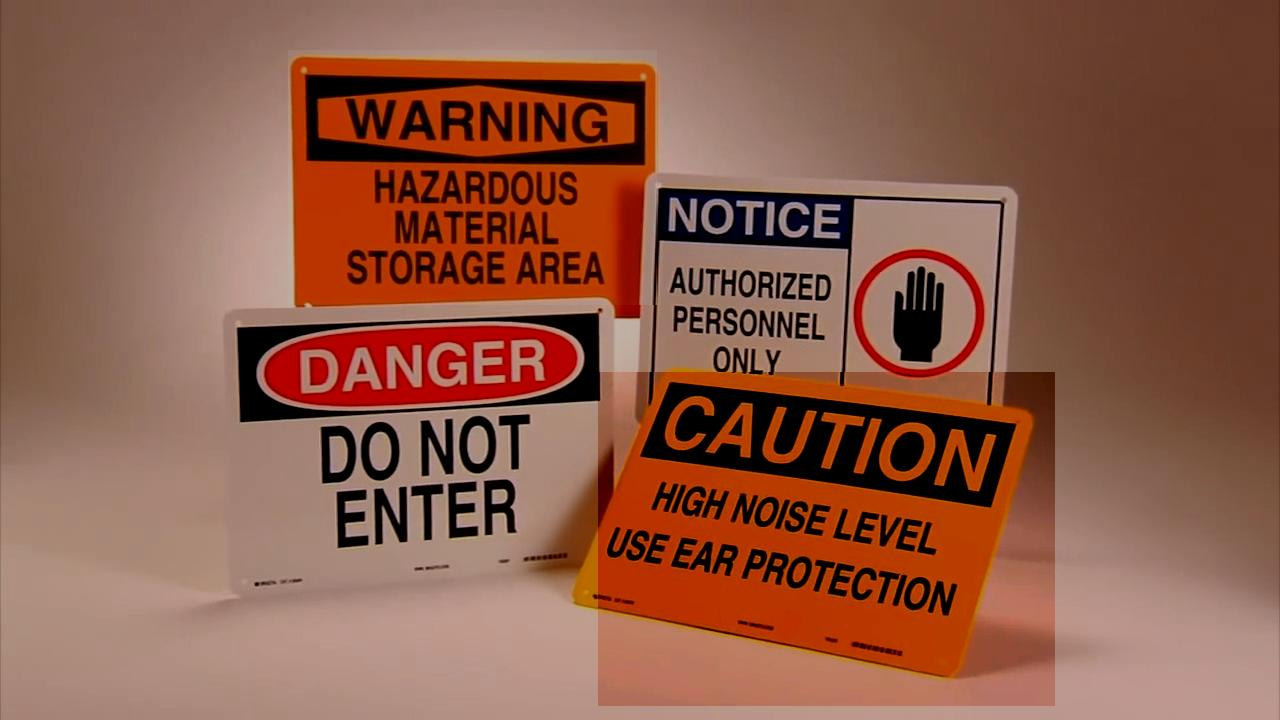safety_signage: (599, 373, 1056, 707), (208, 309, 607, 598), (289, 50, 658, 305)
